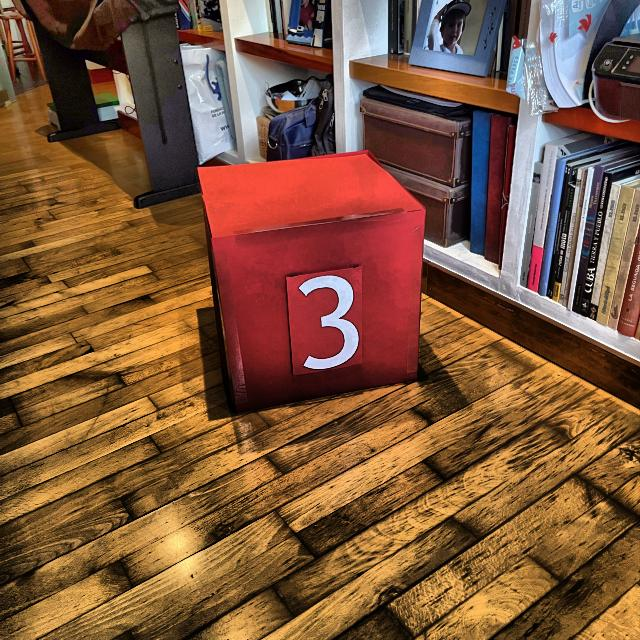red box: (195, 149, 424, 414)
three: (298, 274, 360, 371)
